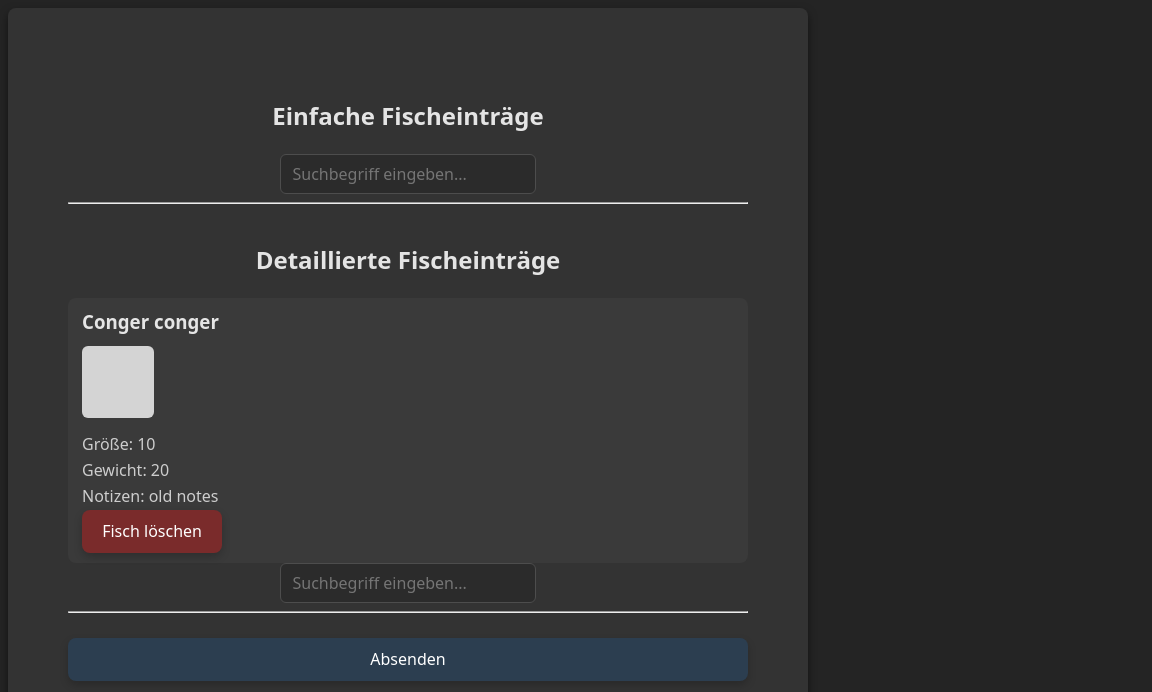
it: EditCatch › submits added and removed catches
Step 1. Type "aal" into the field with placeholder "Suchbegriff eingeben..." below "Einfache Fischeinträge" → (408, 174), box left=280, top=154, right=536, bottom=194
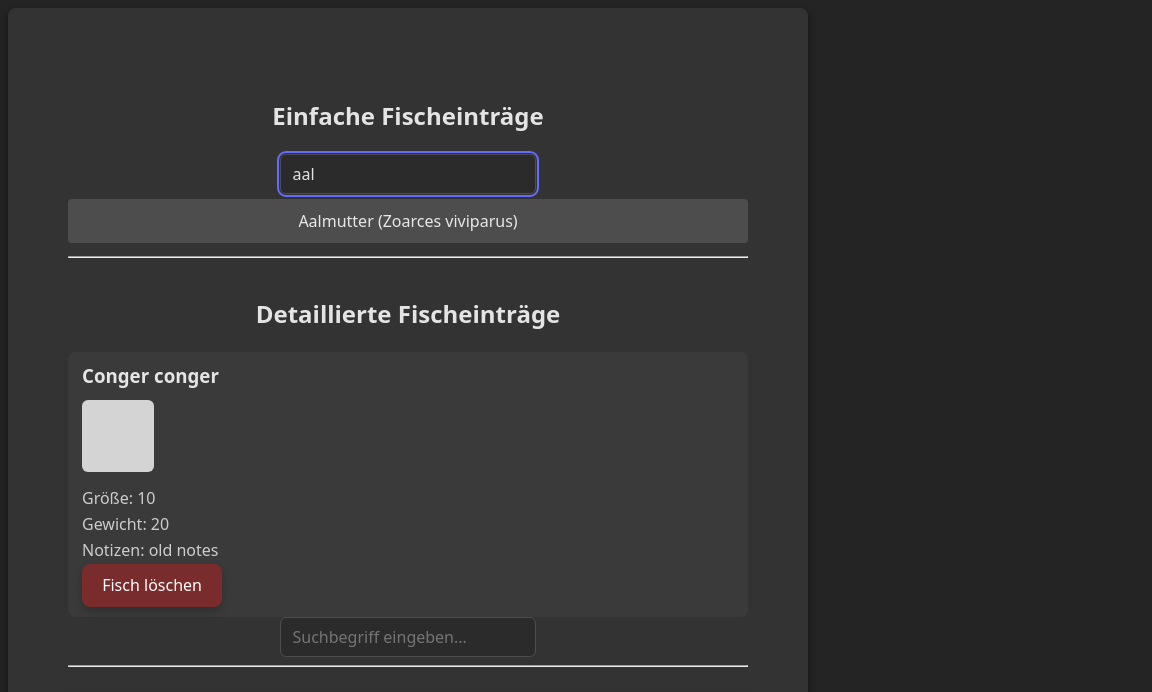
Step 2. Click the list item "Aalmutter (Zoarces viviparus)" → (408, 221), box left=68, top=199, right=748, bottom=243
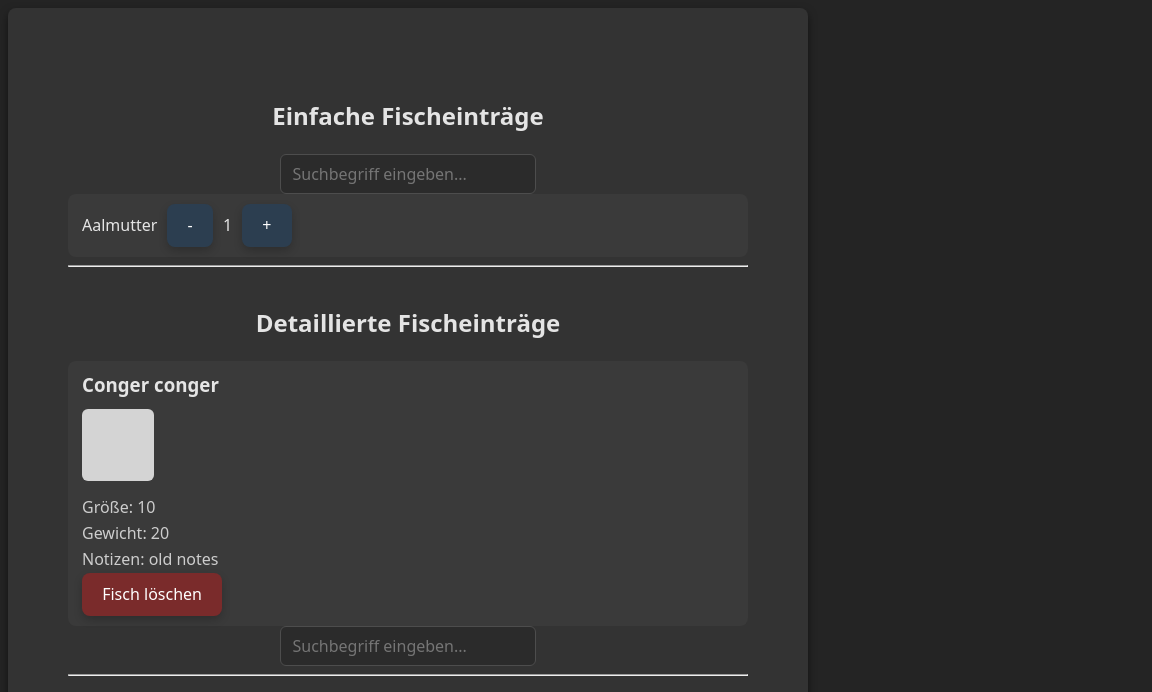
Step 3. Click the button "+" → (267, 225), box left=242, top=204, right=292, bottom=247
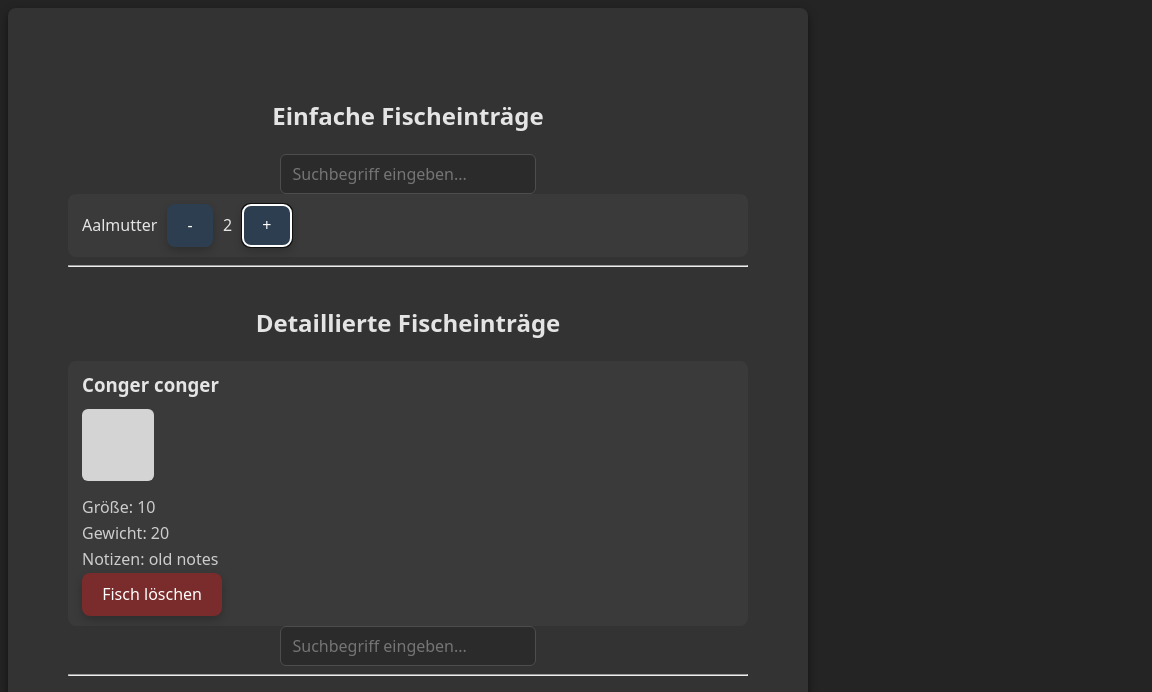
Step 4. Click the button "Fisch löschen" → (152, 594), box left=82, top=573, right=222, bottom=616
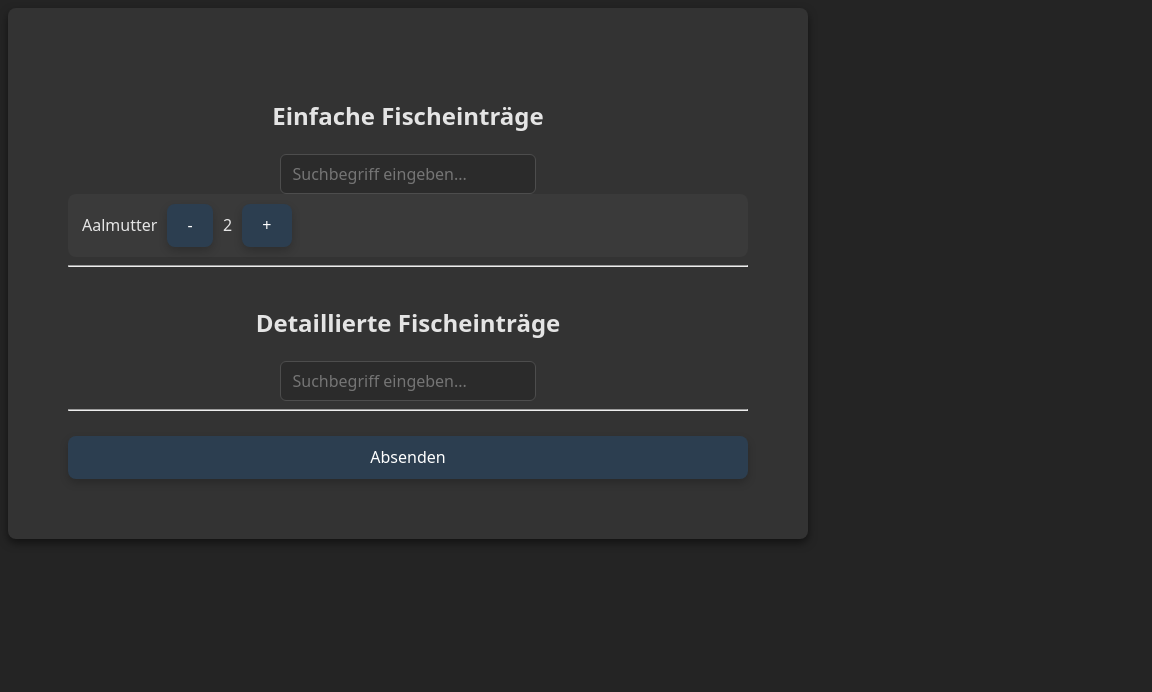
Now the heading "Conger conger" is gone
Step 5. Click the button "Absenden" → (408, 457), box left=68, top=436, right=748, bottom=479
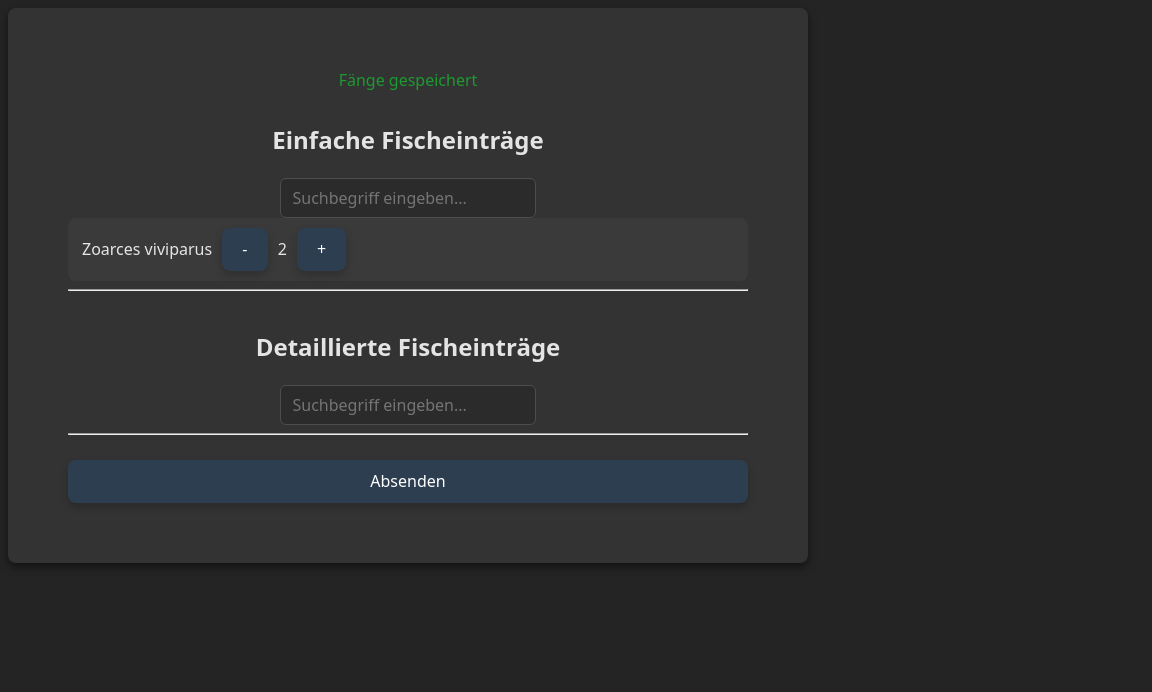
Now the text "Fänge gespeichert" is shown, box left=339, top=69, right=477, bottom=91
Now the text "Zoarces viviparus" is shown, box left=82, top=237, right=212, bottom=261
